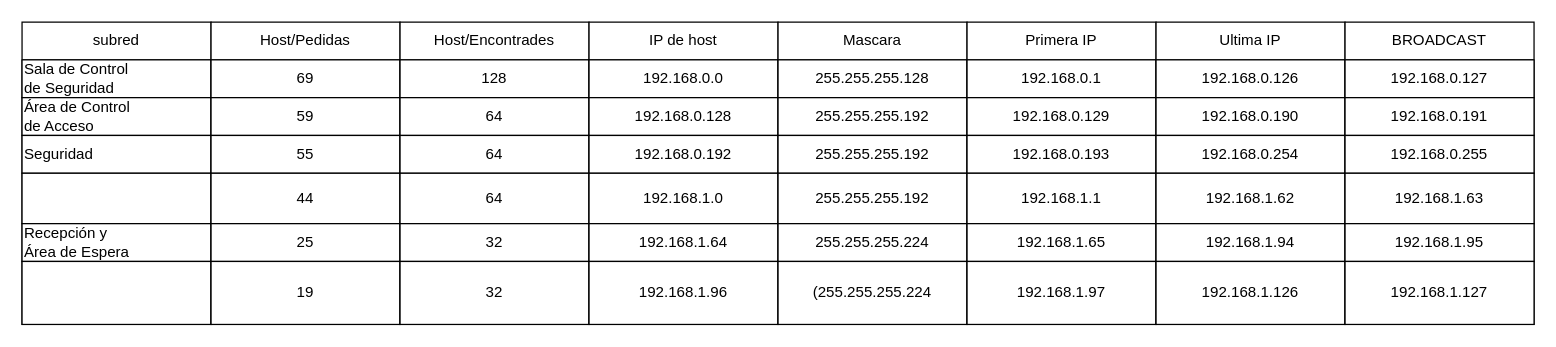
Image size: 1556x347. Some labels were removed from this diagram. The shapes that lost their labels are listed below. From the top down, each one's centre as x and y in pixels, then its label:
At [116,198]: "Área de Desarrollo de Software".
At [116,292]: "Sala de Almacenamiento de Datos".
